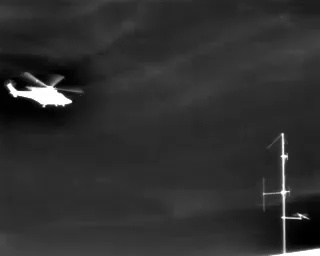HELICOPTER: (4, 67, 87, 116)
